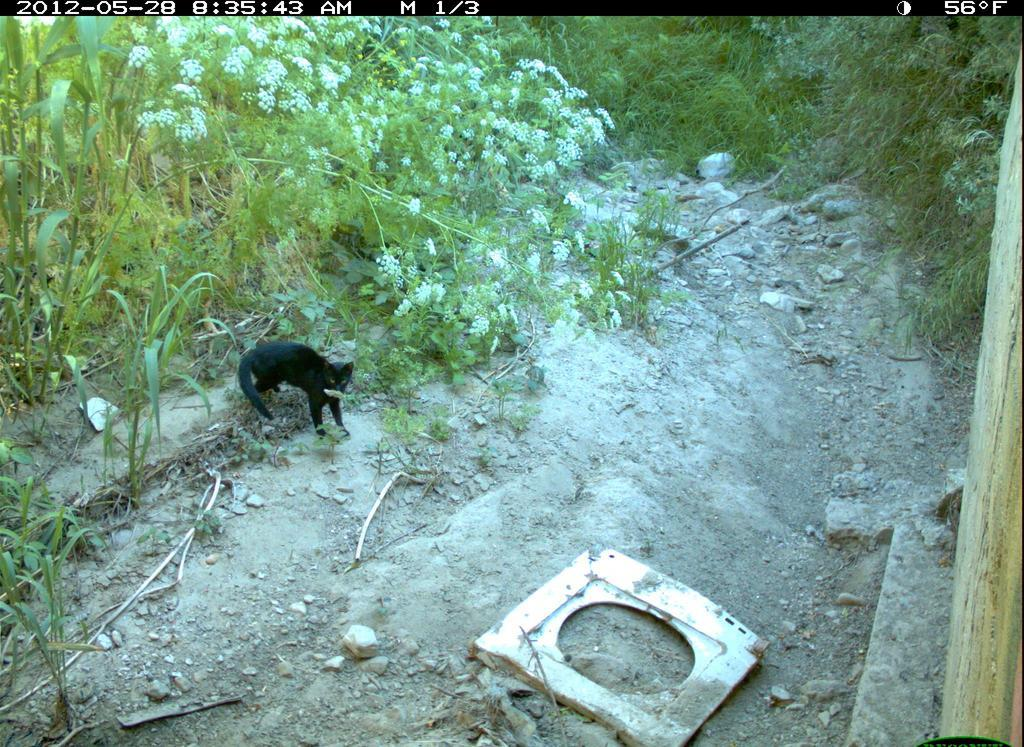opossum: (235, 336, 361, 446)
